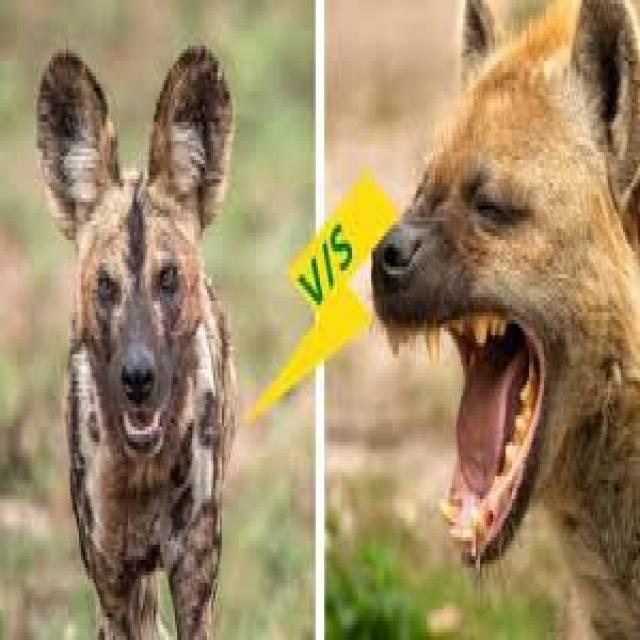Hyena: (373, 8, 640, 639), (45, 48, 246, 638)
